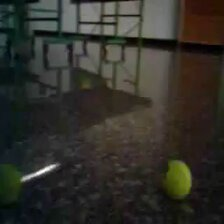tennis: (159, 160, 192, 200)
